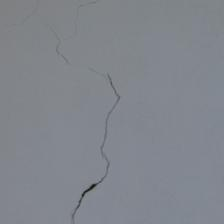Crack: (0, 10, 130, 56), (7, 21, 118, 54)
